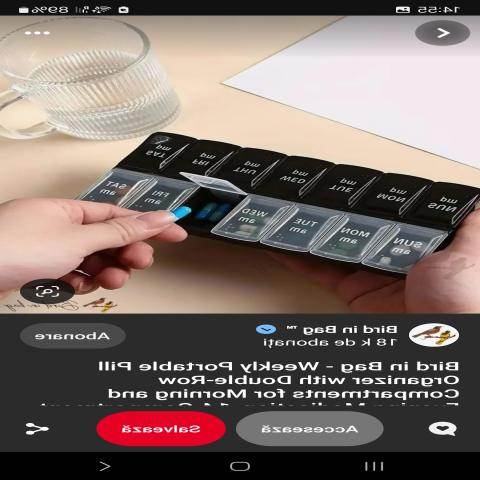Pill-box: (40, 98, 480, 291)
